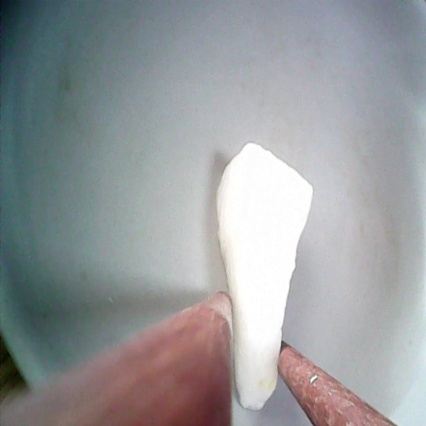white_chinese-yam: (210, 137, 315, 423)
